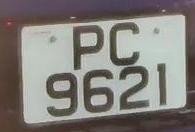1: (150, 59, 174, 111)
2: (116, 61, 154, 114)
6: (81, 67, 119, 118)
9: (38, 68, 85, 122)
C: (103, 17, 148, 69)
P: (67, 22, 110, 72)
